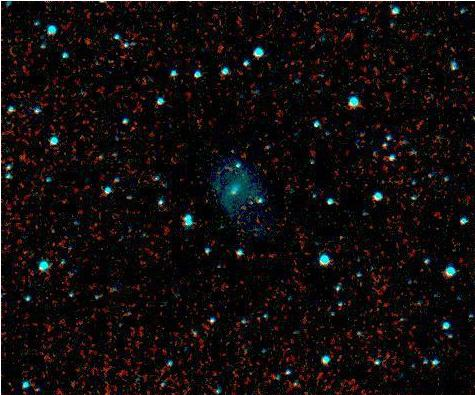star: (231, 186, 261, 216)
